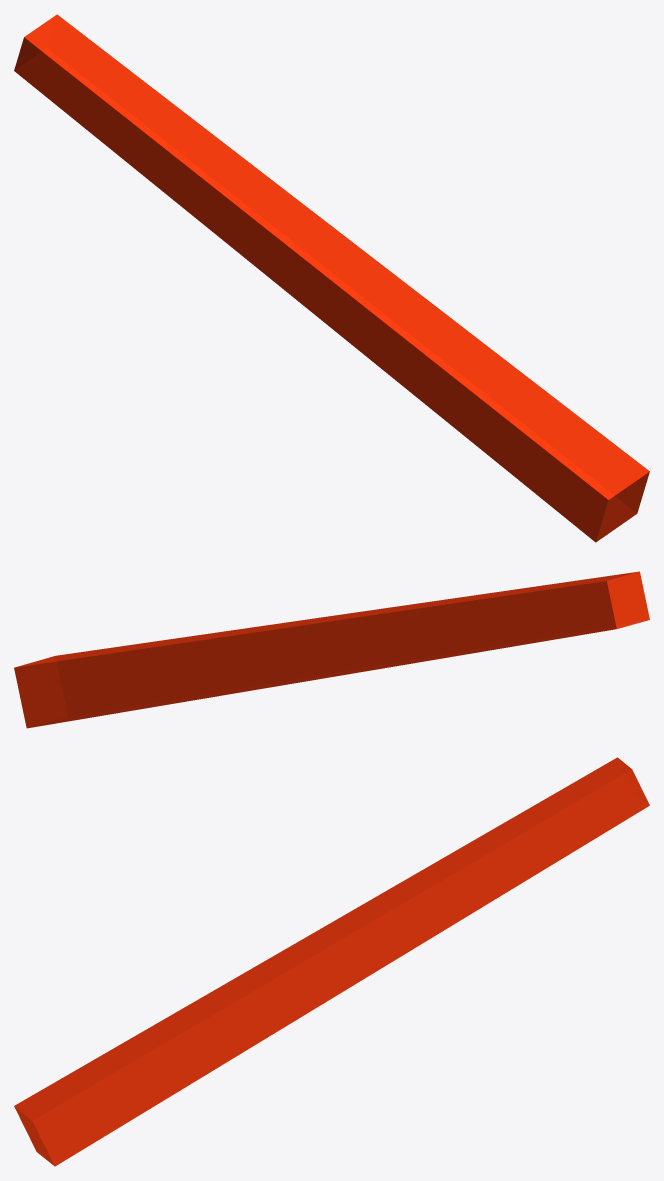
File: Event_421556567_EBrechit_12.fbx
3 views of the same model, one above another, from view 1: azimuth 30°, elevation 25°; view 2: azimuth 210°, elevation 25°; view 3: azimuth 270°, elevation 25° (orthographic). The views are drawn at different scales.
Parts seen in each view (by area): view 1: Model; view 2: Model; view 3: Model.
Part boxes in pixels (x1=…): Model: x1=14, y1=14, x2=649, y2=542; Model: x1=14, y1=571, x2=649, y2=728; Model: x1=14, y1=757, x2=649, y2=1166.
Bounding box in the file's own units: 0.3836 × 0.411 × 0.8039.
